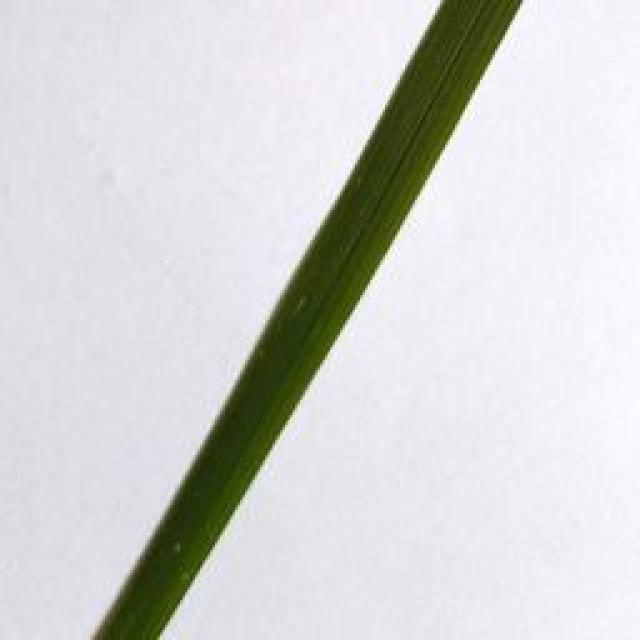Healthy-Plant: (92, 0, 520, 640)
